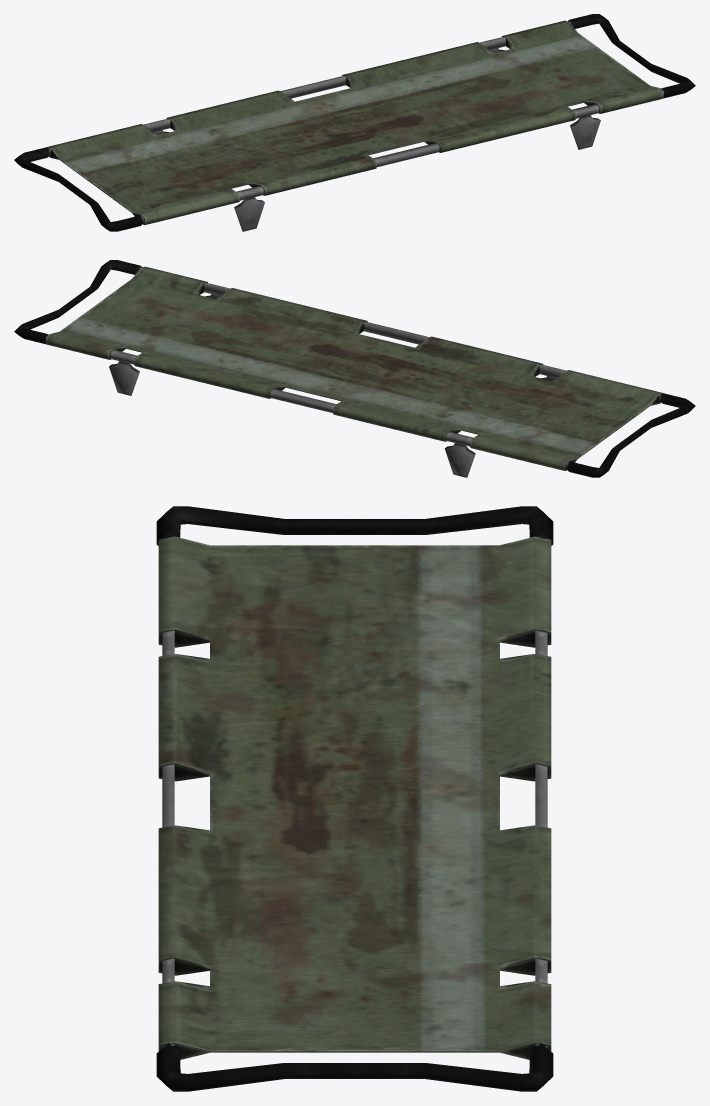
File: Stretcher01.FBX
3 renders of one model, top to bottom at view 1: azimuth 30°, elevation 25°; view 2: azimuth 150°, elevation 25°; view 3: azimuth 270°, elevation 25°, orthographic. The views are drawn at different scales.
Visible parts, largest first — view 1: Stretcher01; view 2: Stretcher01; view 3: Stretcher01.
Part boxes in pixels (left/top/right/bottom): Stretcher01: left=14, top=14, right=695, bottom=231; Stretcher01: left=14, top=260, right=695, bottom=477; Stretcher01: left=156, top=506, right=553, bottom=1091.
Bounding box in the file's own units: 2.01 × 0.1354 × 0.5846.
